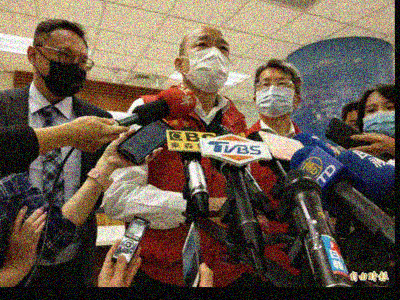with_mask: (36, 41, 88, 97), (182, 33, 230, 93), (255, 75, 297, 117), (362, 99, 394, 138)
